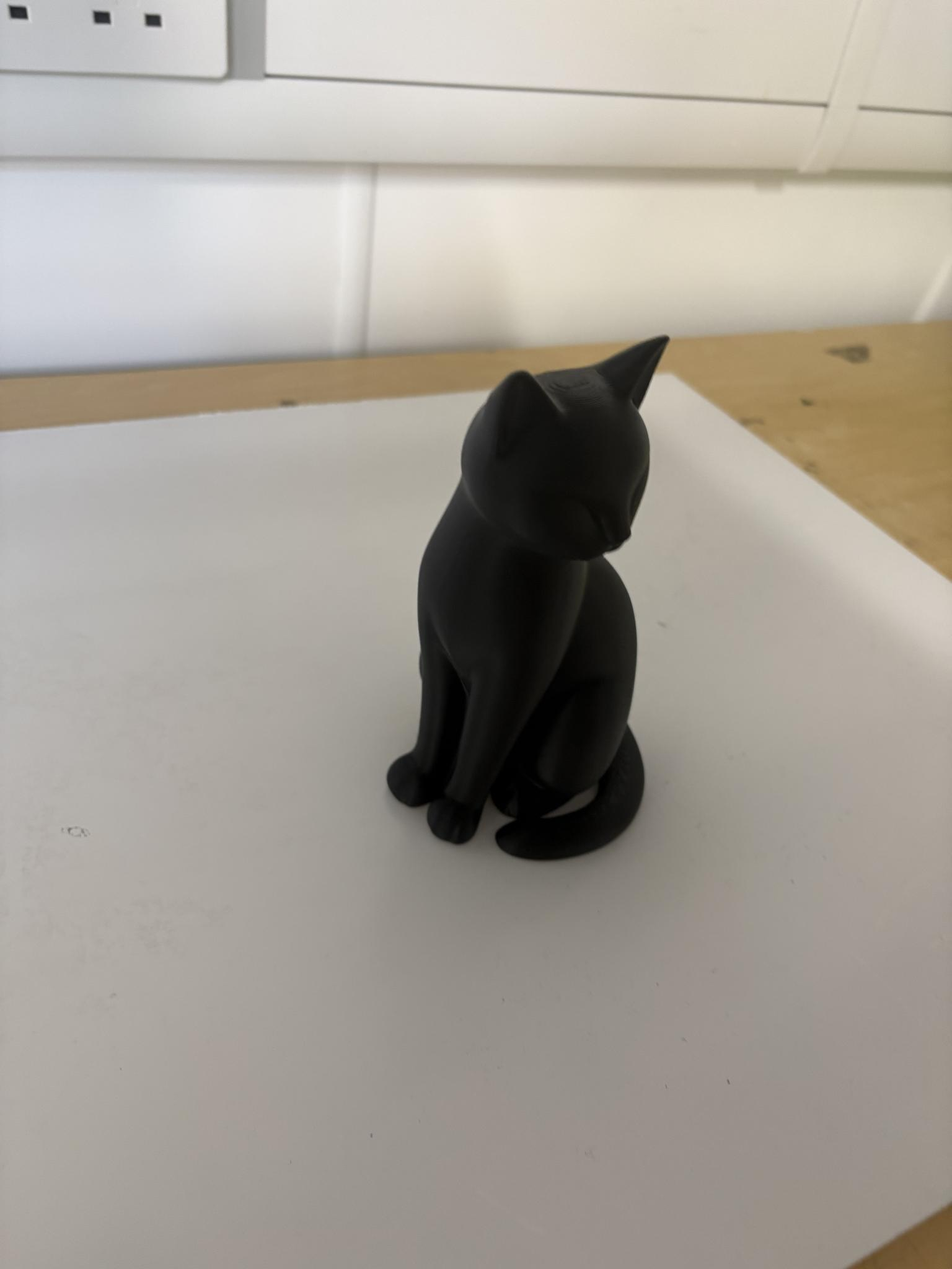cat: (388, 338, 668, 859)
